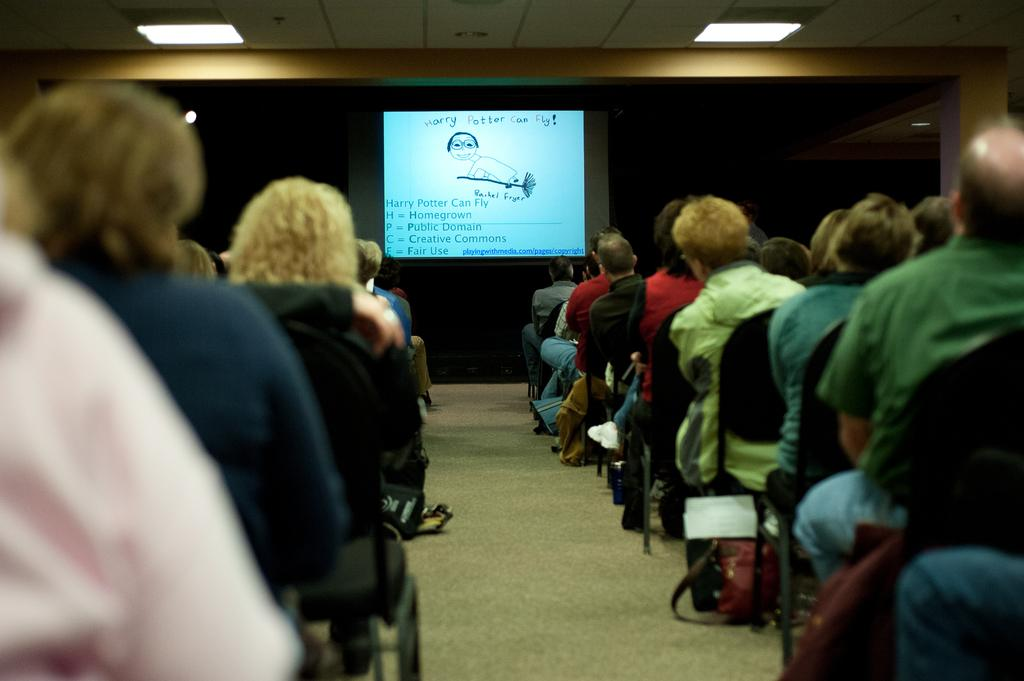Sem Máscara: (450, 133, 475, 155)
